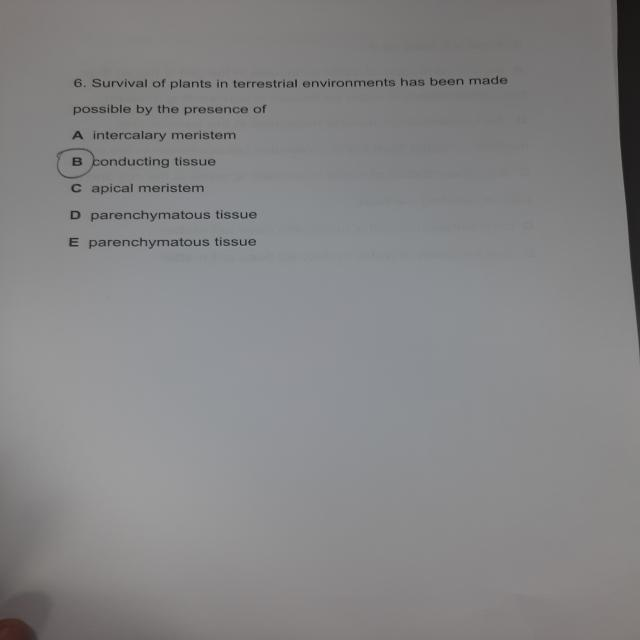B: (54, 148, 98, 183)
